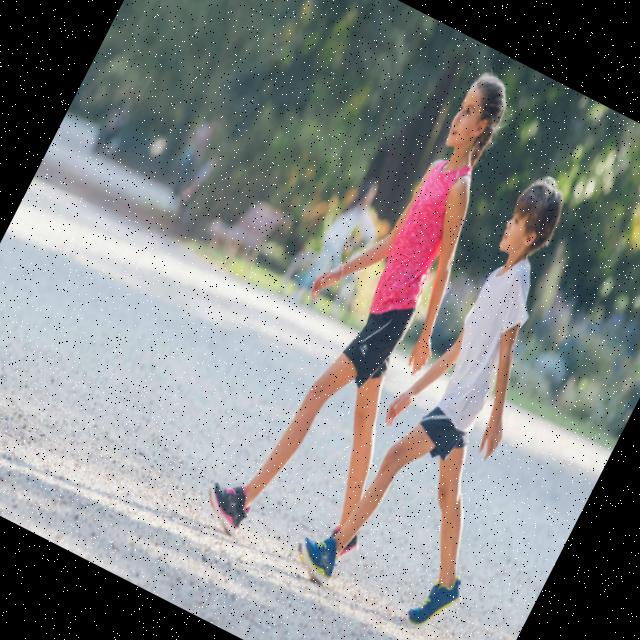Person: (193, 44, 578, 590), (289, 151, 640, 638)
